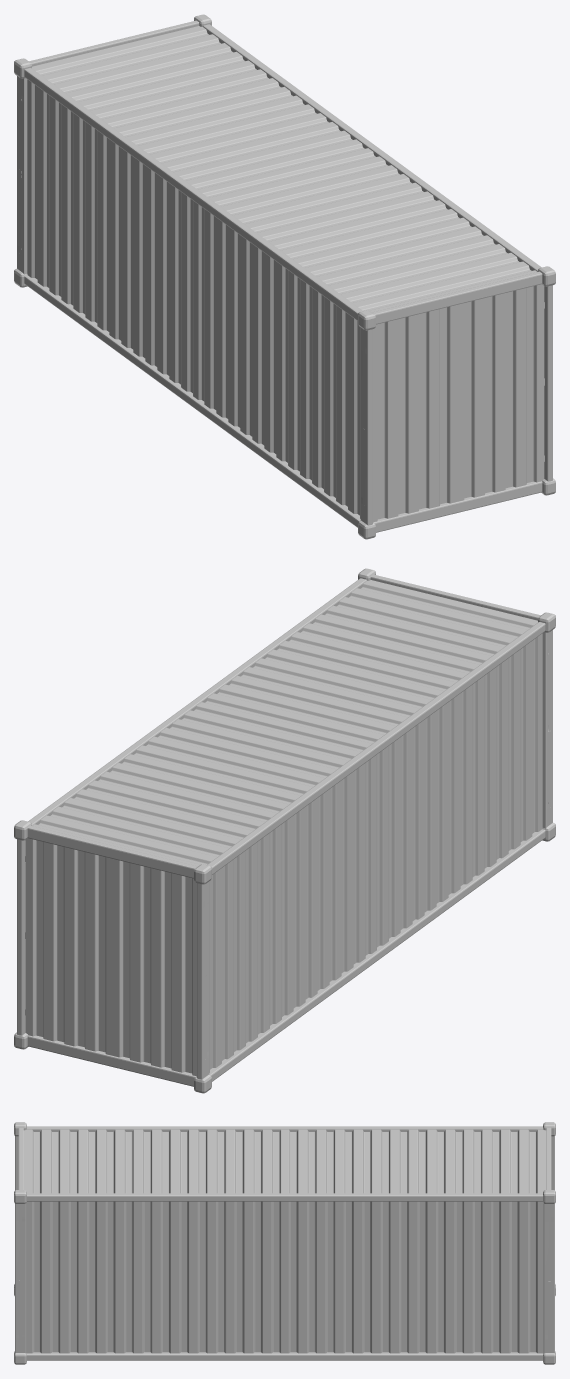
The model's file is cargoLightGrey.glb.
3 renders of one model, top to bottom at view 1: azimuth 30°, elevation 25°; view 2: azimuth 150°, elevation 25°; view 3: azimuth 270°, elevation 25°, orthographic. The views are drawn at different scales.
Visible parts, largest first — view 1: 030.002; view 2: 030.002; view 3: 030.002.
Part boxes in pixels (box(x1,y1,x2,y2)): 030.002: box(14, 14, 555, 539); 030.002: box(14, 568, 555, 1093); 030.002: box(14, 1122, 555, 1364).
Bounding box in the file's own units: 2.26 × 2.51 × 7.18.
1 material, 1 textured.
